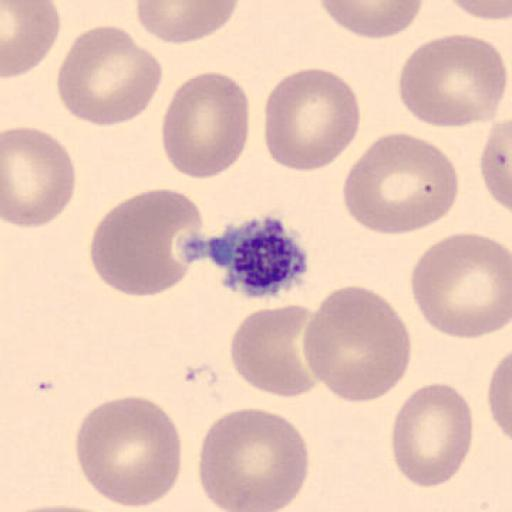Platelet: (215, 212, 311, 300)
RBC: (302, 283, 412, 405), (88, 188, 205, 299), (73, 394, 183, 508), (342, 131, 460, 237), (197, 407, 311, 512), (56, 23, 164, 128), (409, 230, 512, 340), (397, 33, 508, 129), (262, 67, 360, 173), (160, 70, 251, 180), (390, 381, 475, 488), (228, 302, 320, 399), (1, 125, 77, 230), (1, 0, 61, 80), (135, 0, 240, 45), (317, 0, 424, 41), (479, 114, 512, 217), (486, 347, 512, 447), (448, 0, 512, 21), (2, 503, 125, 512)
